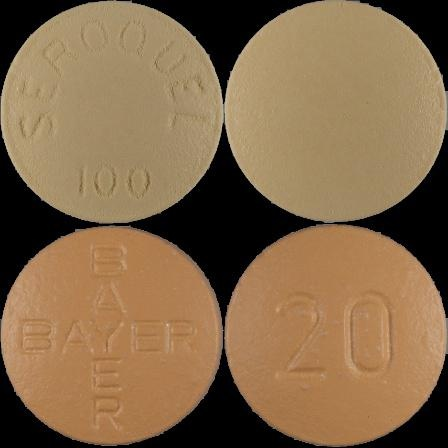55289-187: (0, 0, 224, 224)
